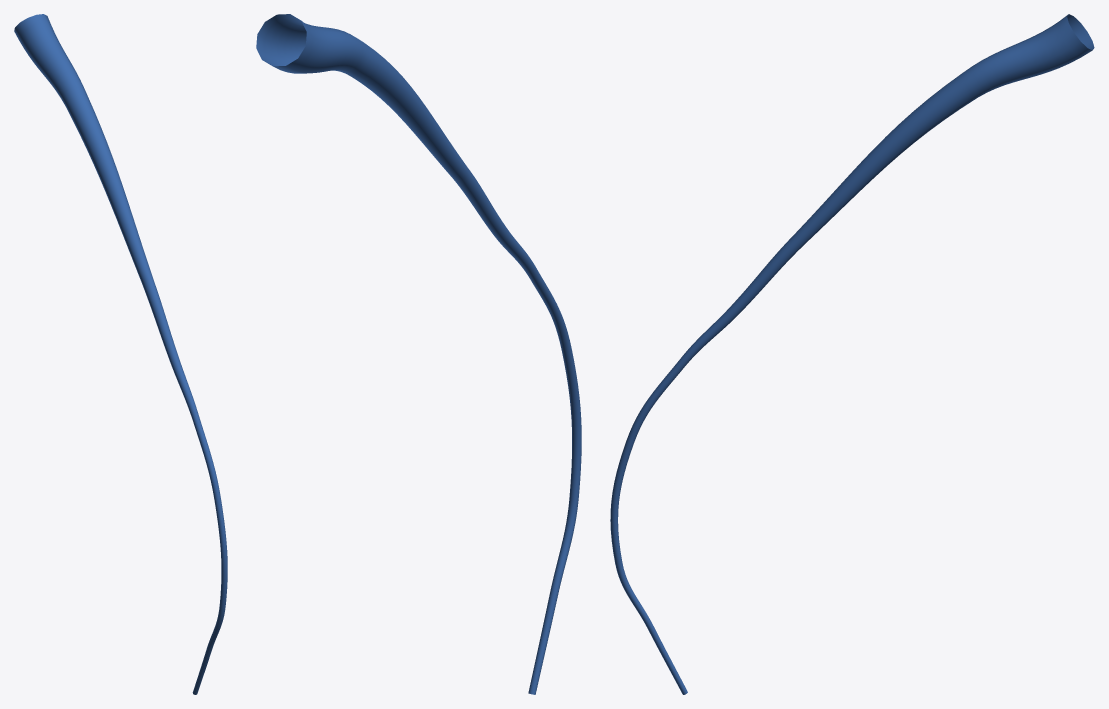
The picture shows the model from 3 angles, left to right: view 1: azimuth 30°, elevation 25°; view 2: azimuth 150°, elevation 25°; view 3: azimuth 270°, elevation 25°; orthographic projection. The views are drawn at different scales.
Visible parts, largest first — view 1: 直窦; view 2: 直窦; view 3: 直窦.
Boxes of the visible parts, <box> form: 直窦: <box>14,14,227,694</box>; 直窦: <box>256,14,581,694</box>; 直窦: <box>610,14,1094,694</box>.
Bounding box in the file's own units: 0.00442 × 0.0749 × 0.0485.
